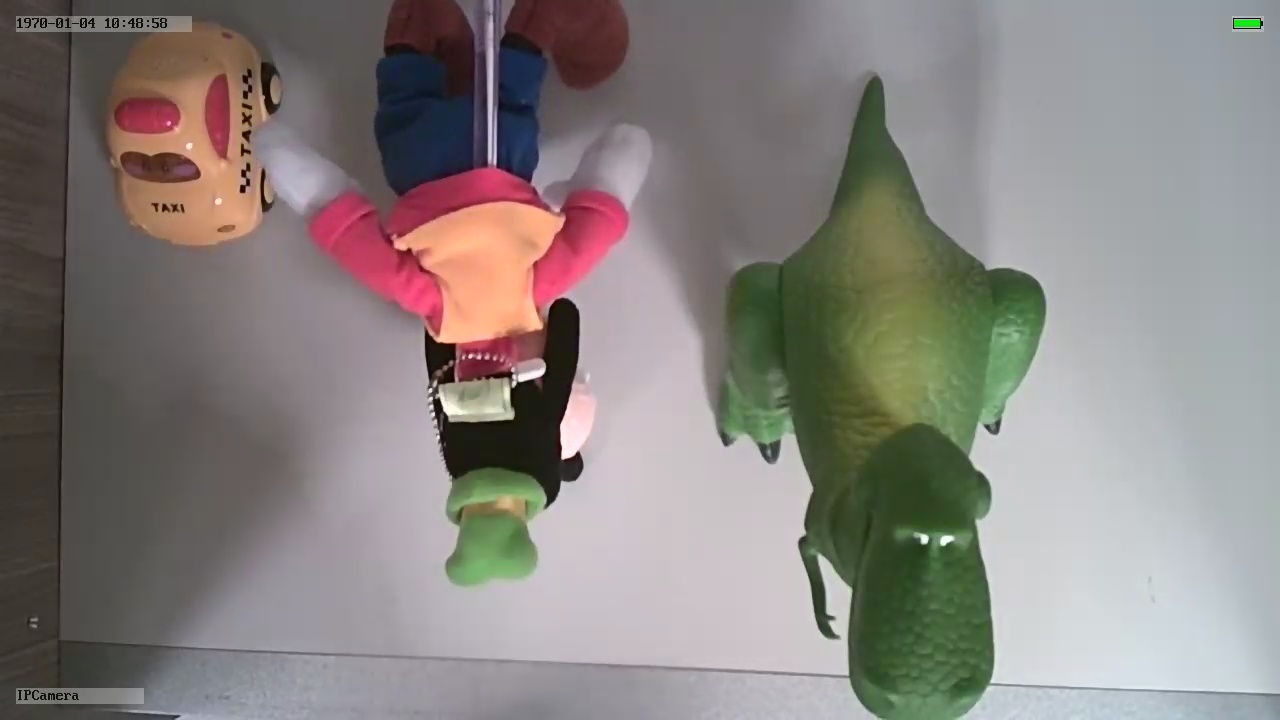car: (107, 17, 287, 252)
rex: (720, 174, 1048, 720)
